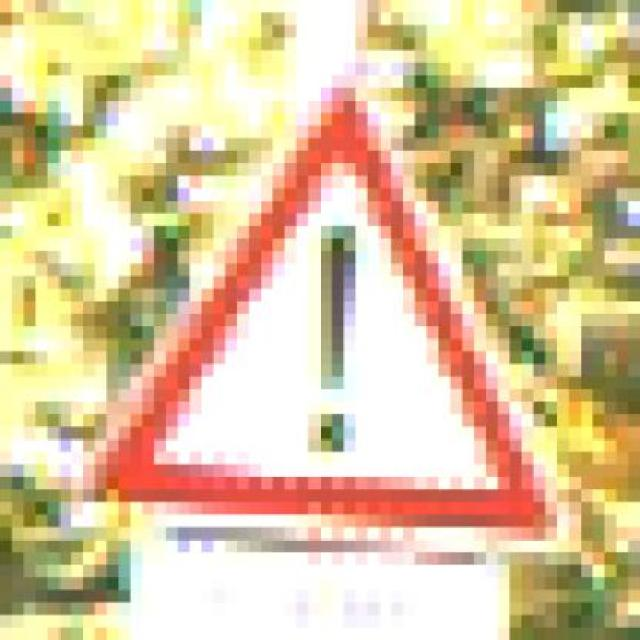Attention Please-: (71, 62, 557, 566)
